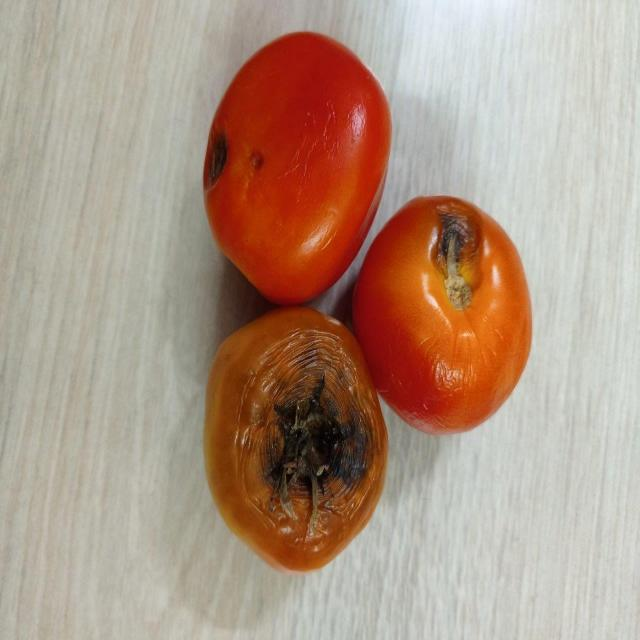Rotten: (202, 28, 392, 304), (202, 304, 390, 569), (349, 194, 536, 434)
